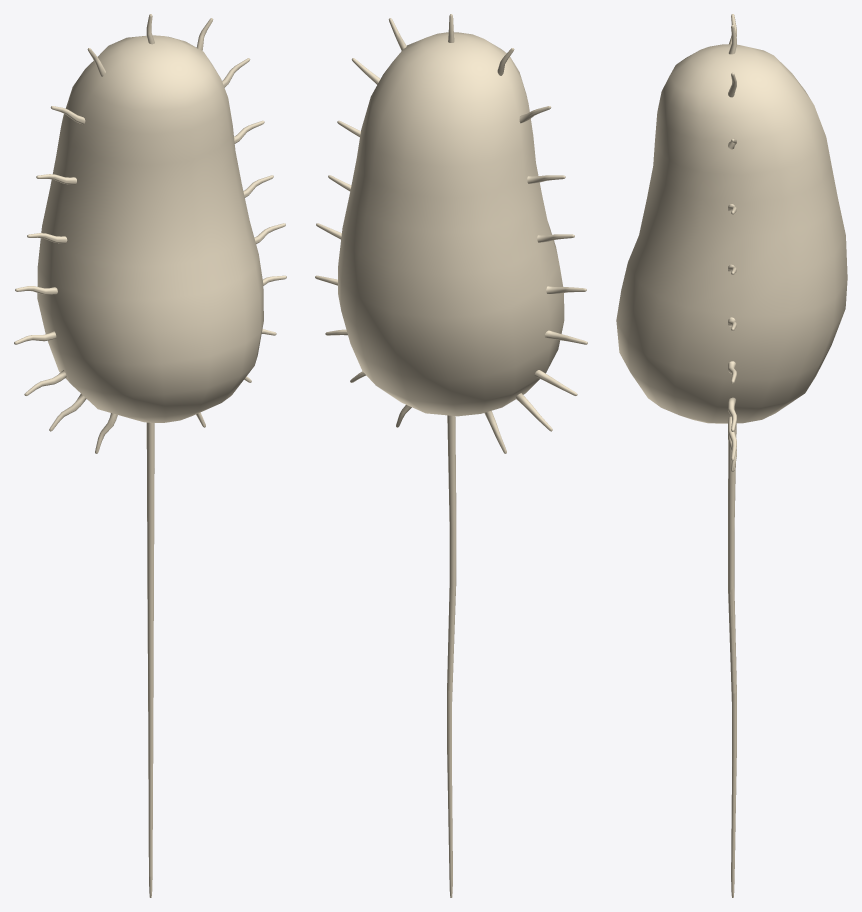
The model's file is sketchfab-bacterium-rod-v2.glb.
3 renders of one model, left to right at view 1: azimuth 30°, elevation 25°; view 2: azimuth 150°, elevation 25°; view 3: azimuth 270°, elevation 25°, orthographic.
Parts seen in each view (by area): view 1: Cell Wall, Plasma Menbrane, Flagellum; view 2: Cell Wall, Plasma Menbrane, Flagellum; view 3: Cell Wall, Flagellum, Plasma Menbrane.
Part boxes in pixels (x1=…): Cell Wall: x1=37, y1=35, x2=263, y2=423; Plasma Menbrane: x1=14, y1=14, x2=286, y2=453; Flagellum: x1=146, y1=422, x2=154, y2=897; Cell Wall: x1=338, y1=32, x2=564, y2=416; Plasma Menbrane: x1=315, y1=14, x2=587, y2=453; Flagellum: x1=447, y1=415, x2=456, y2=897; Cell Wall: x1=616, y1=44, x2=847, y2=423; Flagellum: x1=728, y1=423, x2=736, y2=897; Plasma Menbrane: x1=728, y1=14, x2=736, y2=471.
Size of the model in its own units: 4.24 by 13.16 by 3.16.
